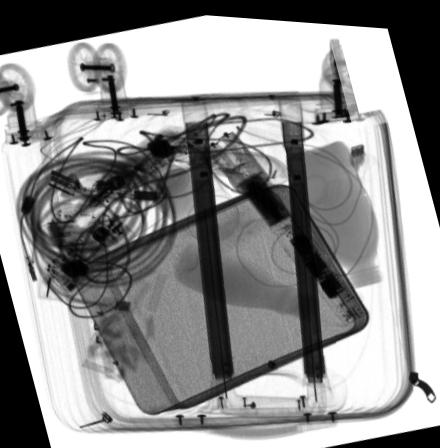Baton: (202, 128, 367, 322)
